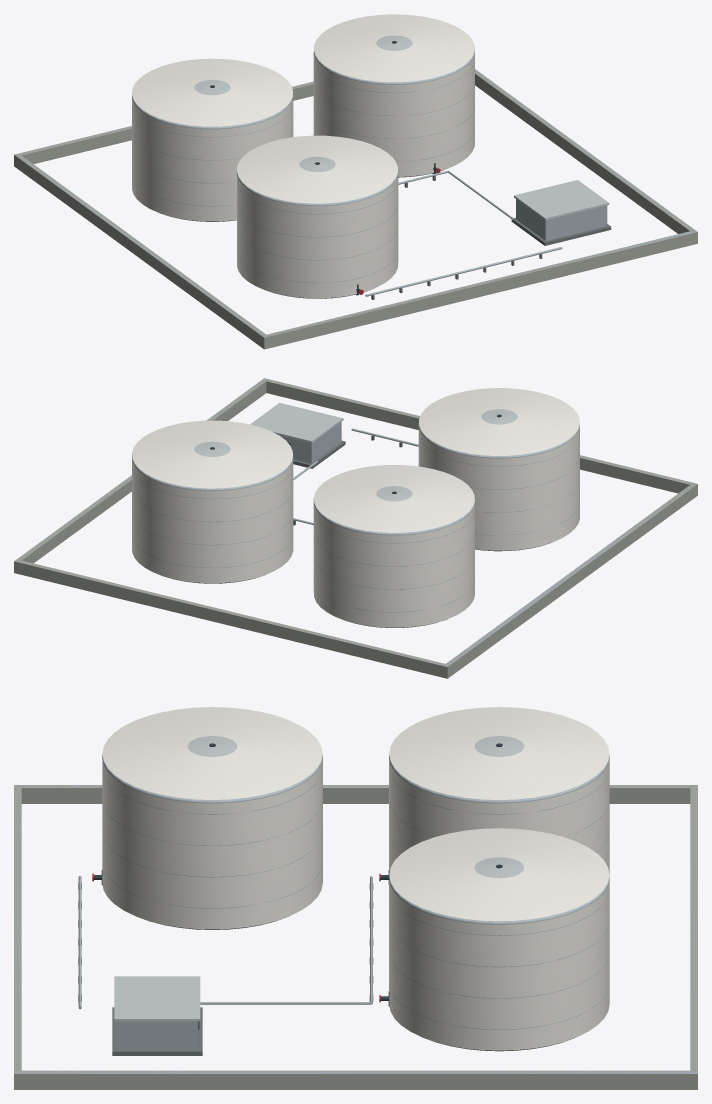
File: CMN_fuel_farm.glb
3 renders of one model, top to bottom at view 1: azimuth 30°, elevation 25°; view 2: azimuth 150°, elevation 25°; view 3: azimuth 270°, elevation 25°, orthographic. The views are drawn at different scales.
Visible parts, largest first — view 1: CMN_fuel_farm; view 2: CMN_fuel_farm; view 3: CMN_fuel_farm.
Boxes of the visible parts, x1=… form: CMN_fuel_farm: x1=14, y1=14, x2=697, y2=349; CMN_fuel_farm: x1=14, y1=378, x2=697, y2=678; CMN_fuel_farm: x1=14, y1=707, x2=697, y2=1089.
Bounding box in the file's own units: 62 × 14 × 62.
Materials: 8 (8 with a texture image).
